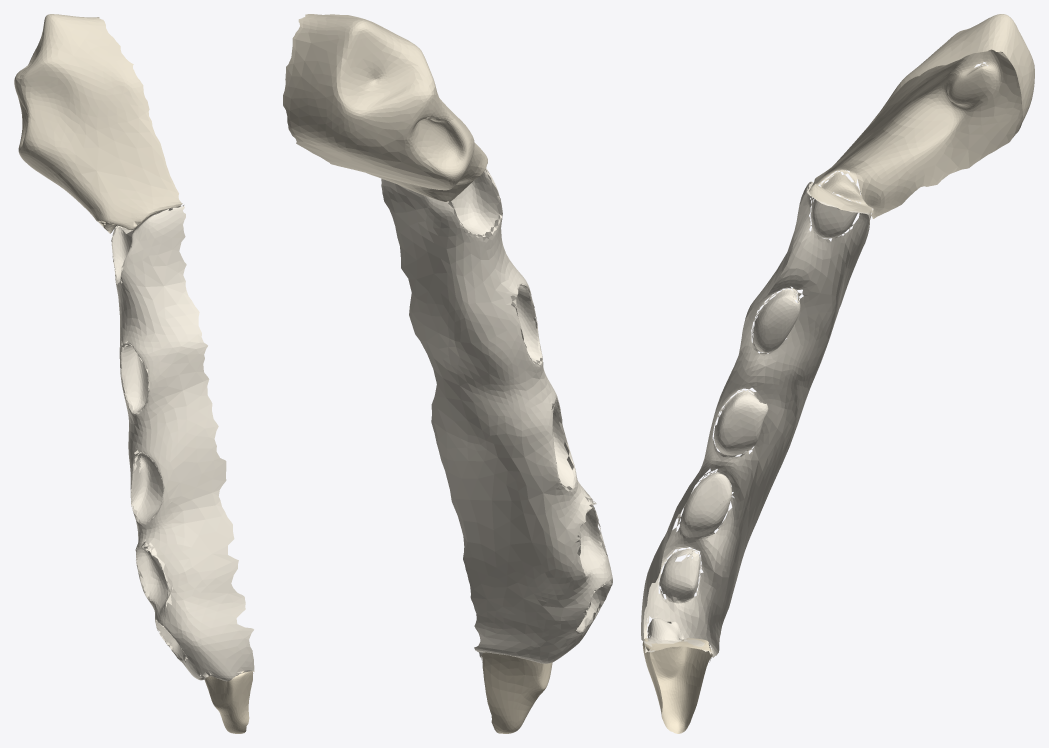
Rendered from sterno_interno.glb.
3 renders of one model, left to right at view 1: azimuth 30°, elevation 25°; view 2: azimuth 150°, elevation 25°; view 3: azimuth 270°, elevation 25°, orthographic. The views are drawn at different scales.
Parts seen in each view (by area): view 1: body of sternum, manubrium, xiphoid process; view 2: body of sternum, manubrium, xiphoid process; view 3: body of sternum, manubrium, xiphoid process.
Part boxes in pixels (box(x1,y1,x2,y2)): body of sternum: box(111, 204, 254, 681); manubrium: box(14, 14, 182, 233); xiphoid process: box(204, 671, 253, 733); body of sternum: box(381, 168, 612, 663); manubrium: box(283, 14, 487, 201); xiphoid process: box(481, 652, 552, 733); body of sternum: box(641, 181, 871, 662); manubrium: box(809, 14, 1034, 218); xiphoid process: box(642, 638, 712, 733).
Bounding box in the file's own units: 26.86 × 161 × 82.59.
